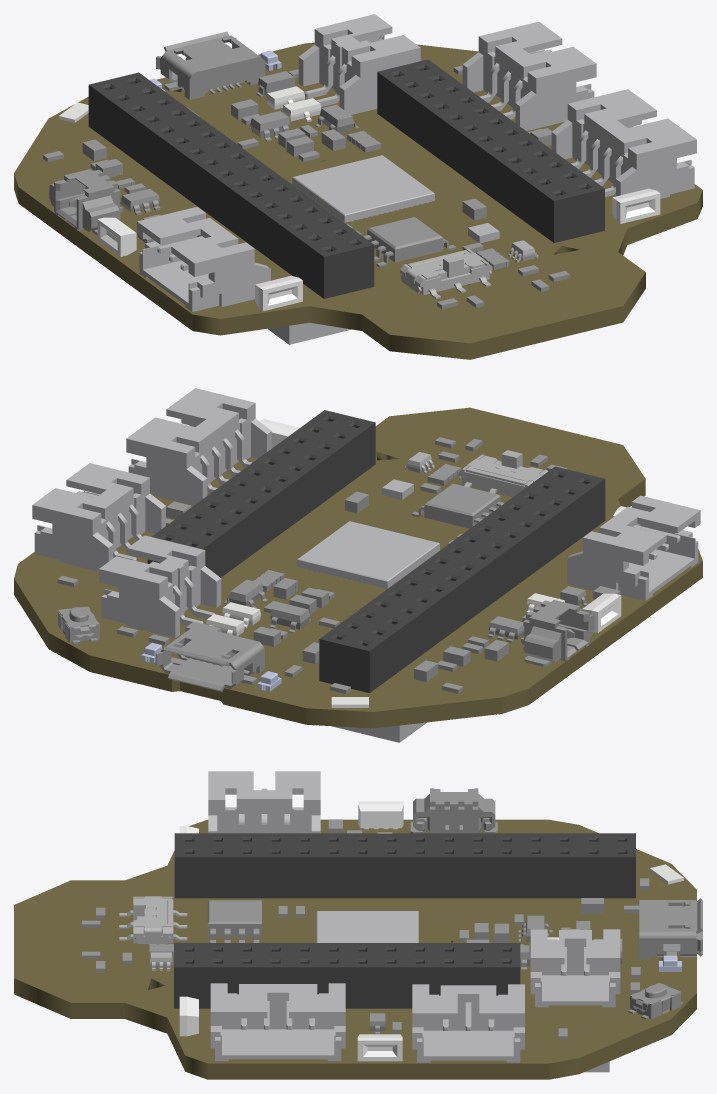
File: ada-4300.glb
3 views of the same model, one above another, from view 1: azimuth 30°, elevation 25°; view 2: azimuth 150°, elevation 25°; view 3: azimuth 270°, elevation 25° (orthographic). The views are drawn at different scales.
Parts seen in each view (by area): view 1: 0.16666666666666666_0.16666666666666666_0.08333333333333333_, 0.5833333333333334_0.5833333333333334_0.5833333333333334_0.8, 0.08333333333333333_0.08333333333333333_0.08333333333333333_, 0.3333333333333333_0.3333333333333333_0.3333333333333333_0, 1_1_1_0.85, 0.5_0.5_0.5_0.85, 0.9166666666666666_0.9166666666666666_0.9166666666666666_0.8; view 2: 0.16666666666666666_0.16666666666666666_0.08333333333333333_, 0.5833333333333334_0.5833333333333334_0.5833333333333334_0.8, 0.08333333333333333_0.08333333333333333_0.08333333333333333_, 0.3333333333333333_0.3333333333333333_0.3333333333333333_0, 0.5_0.5_0.5_0.85, 0.9166666666666666_0.9166666666666666_0.9166666666666666_0.8, 1_1_1_0.85, 0.5833333333333334_0.6666666666666666_0.8333333333333334_0; view 3: 0.16666666666666666_0.16666666666666666_0.08333333333333333_, 0.08333333333333333_0.08333333333333333_0.08333333333333333_, 0.5833333333333334_0.5833333333333334_0.5833333333333334_0.8, 0.3333333333333333_0.3333333333333333_0.3333333333333333_0, 1_1_1_0.85, 0.5_0.5_0.5_0.85.
Part boxes in pixels (x1=…): 0.16666666666666666_0.16666666666666666_0.08333333333333333_: x1=14, y1=42, x2=702, y2=359; 0.5833333333333334_0.5833333333333334_0.5833333333333334_0.8: x1=137, y1=14, x2=696, y2=344; 0.08333333333333333_0.08333333333333333_0.08333333333333333_: x1=88, y1=59, x2=604, y2=298; 0.3333333333333333_0.3333333333333333_0.3333333333333333_0: x1=43, y1=31, x2=569, y2=309; 1_1_1_0.85: x1=97, y1=188, x2=660, y2=311; 0.5_0.5_0.5_0.85: x1=400, y1=240, x2=538, y2=299; 0.9166666666666666_0.9166666666666666_0.9166666666666666_0.8: x1=59, y1=86, x2=321, y2=122; 0.16666666666666666_0.16666666666666666_0.08333333333333333_: x1=14, y1=407, x2=702, y2=728; 0.5833333333333334_0.5833333333333334_0.5833333333333334_0.8: x1=32, y1=388, x2=700, y2=742; 0.08333333333333333_0.08333333333333333_0.08333333333333333_: x1=147, y1=410, x2=605, y2=692; 0.3333333333333333_0.3333333333333333_0.3333333333333333_0: x1=57, y1=437, x2=620, y2=694; 0.5_0.5_0.5_0.85: x1=404, y1=450, x2=548, y2=497; 0.9166666666666666_0.9166666666666666_0.9166666666666666_0.8: x1=206, y1=593, x2=564, y2=707; 1_1_1_0.85: x1=260, y1=419, x2=626, y2=632; 0.5833333333333334_0.6666666666666666_0.8333333333333334_0: x1=141, y1=642, x2=281, y2=691; 0.16666666666666666_0.16666666666666666_0.08333333333333333_: x1=14, y1=819, x2=696, y2=1079; 0.08333333333333333_0.08333333333333333_0.08333333333333333_: x1=174, y1=833, x2=635, y2=1008; 0.5833333333333334_0.5833333333333334_0.5833333333333334_0.8: x1=208, y1=771, x2=620, y2=1072; 0.3333333333333333_0.3333333333333333_0.3333333333333333_0: x1=82, y1=788, x2=702, y2=1039; 1_1_1_0.85: x1=179, y1=801, x2=403, y2=1061; 0.5_0.5_0.5_0.85: x1=119, y1=896, x2=187, y2=971.
Bounding box in the file's own units: 5.09 × 1.01 × 6.06.
